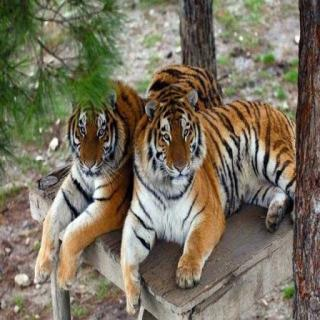Tiger: (120, 82, 296, 316), (31, 74, 134, 286)
